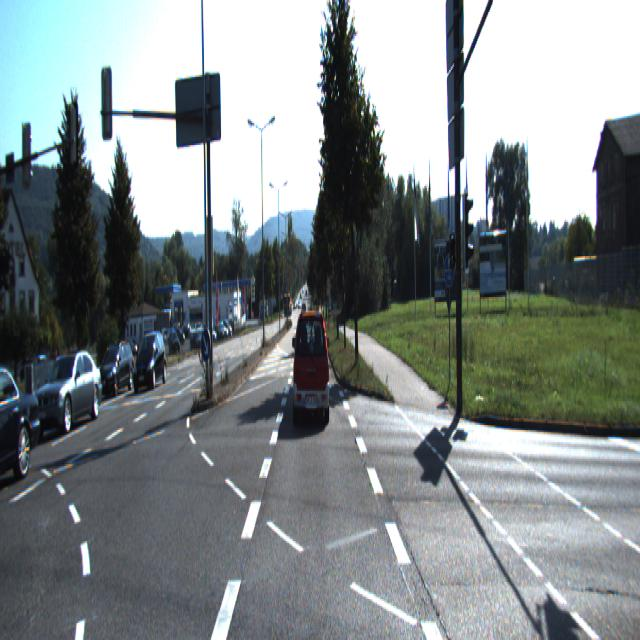Car: (34, 350, 104, 437), (0, 361, 41, 492), (293, 310, 330, 424), (94, 342, 137, 399), (132, 336, 167, 398)
